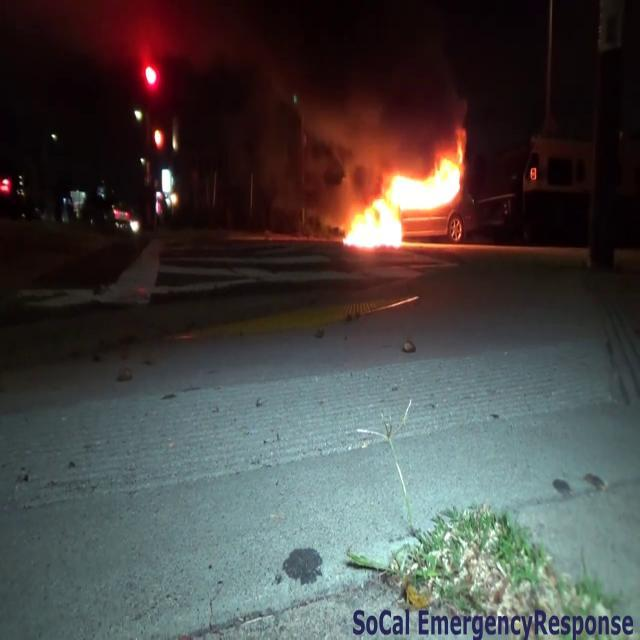Fire: (338, 146, 471, 250)
Smoke: (293, 40, 467, 170)
